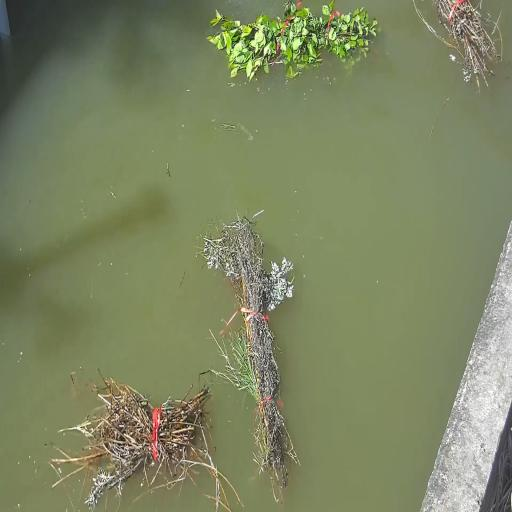twig: (200, 215, 298, 487), (77, 386, 225, 508), (208, 0, 380, 81), (413, 0, 502, 86)
